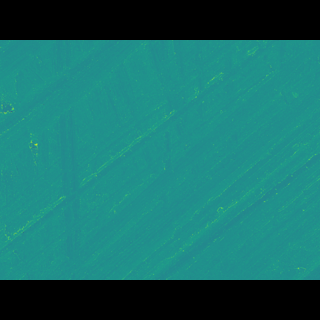Loch: (0, 68, 153, 163), (58, 118, 87, 235)
